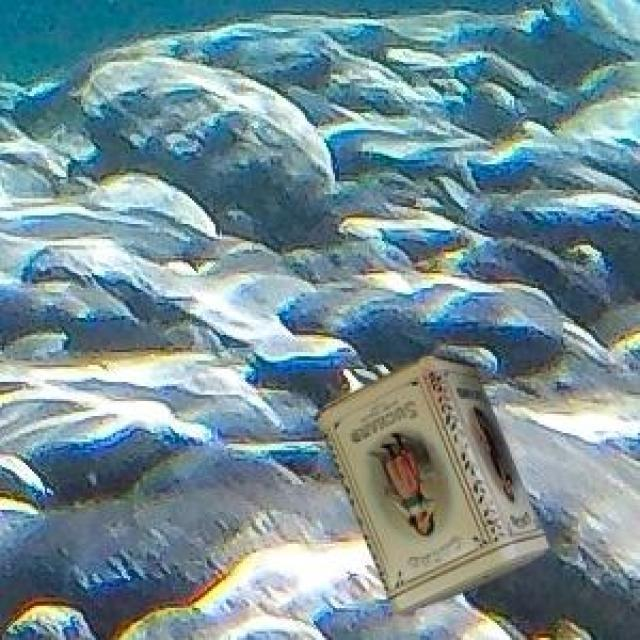Can: (310, 353, 545, 609)
